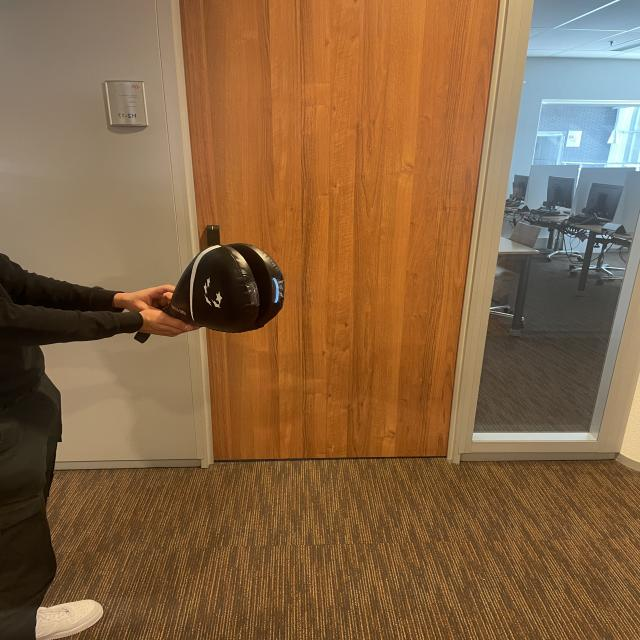paddle: (178, 241, 270, 333)
trigger: (271, 276, 281, 306)
